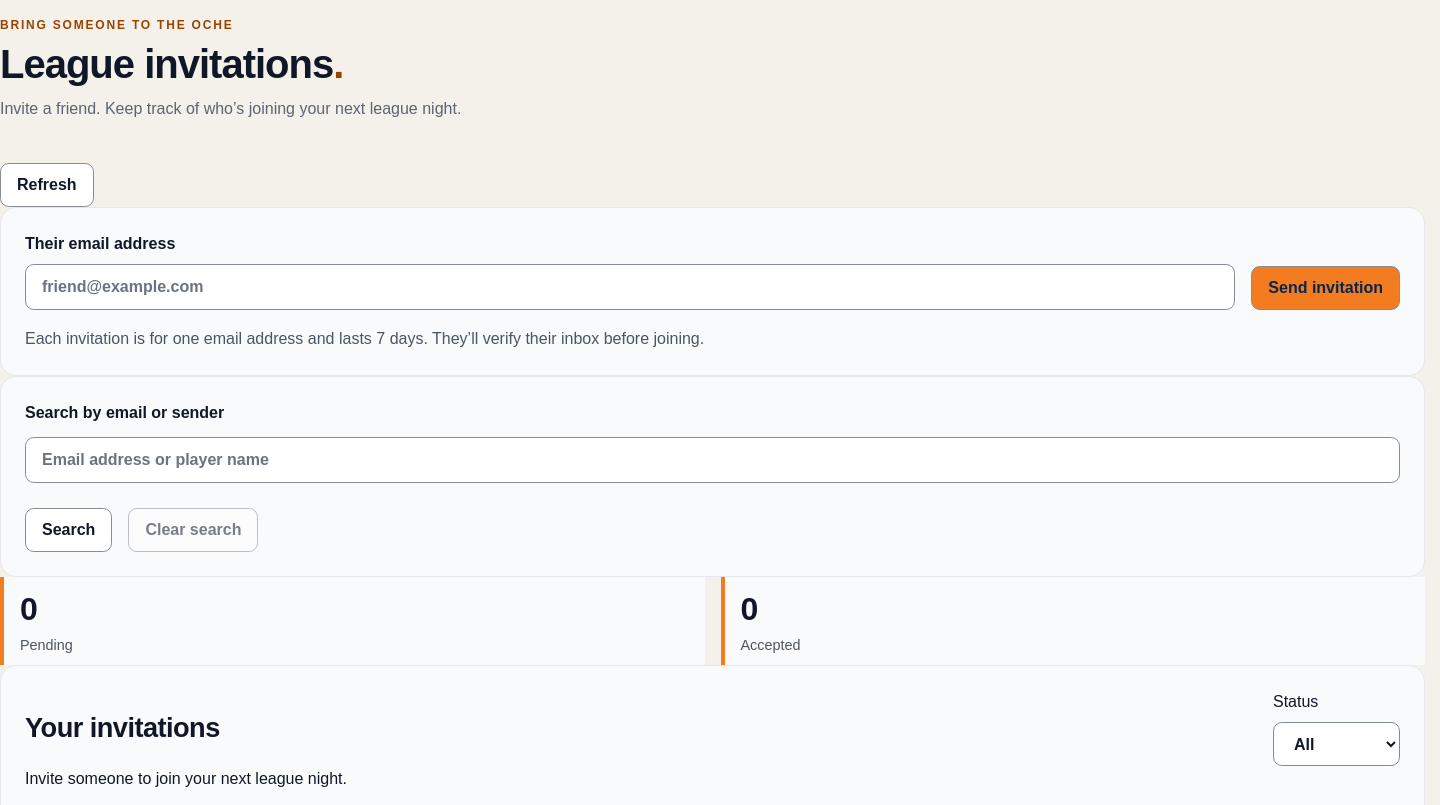
Scenario: keeps search controls available after a failed search
Expected: the text "Invite someone to join your next league night." is shown, x1=25 y1=770 x2=347 y2=787
Type "Alpha" into the search field labelled "Search by email or sender" at (712, 460), box x1=25 y1=437 x2=1400 y2=483
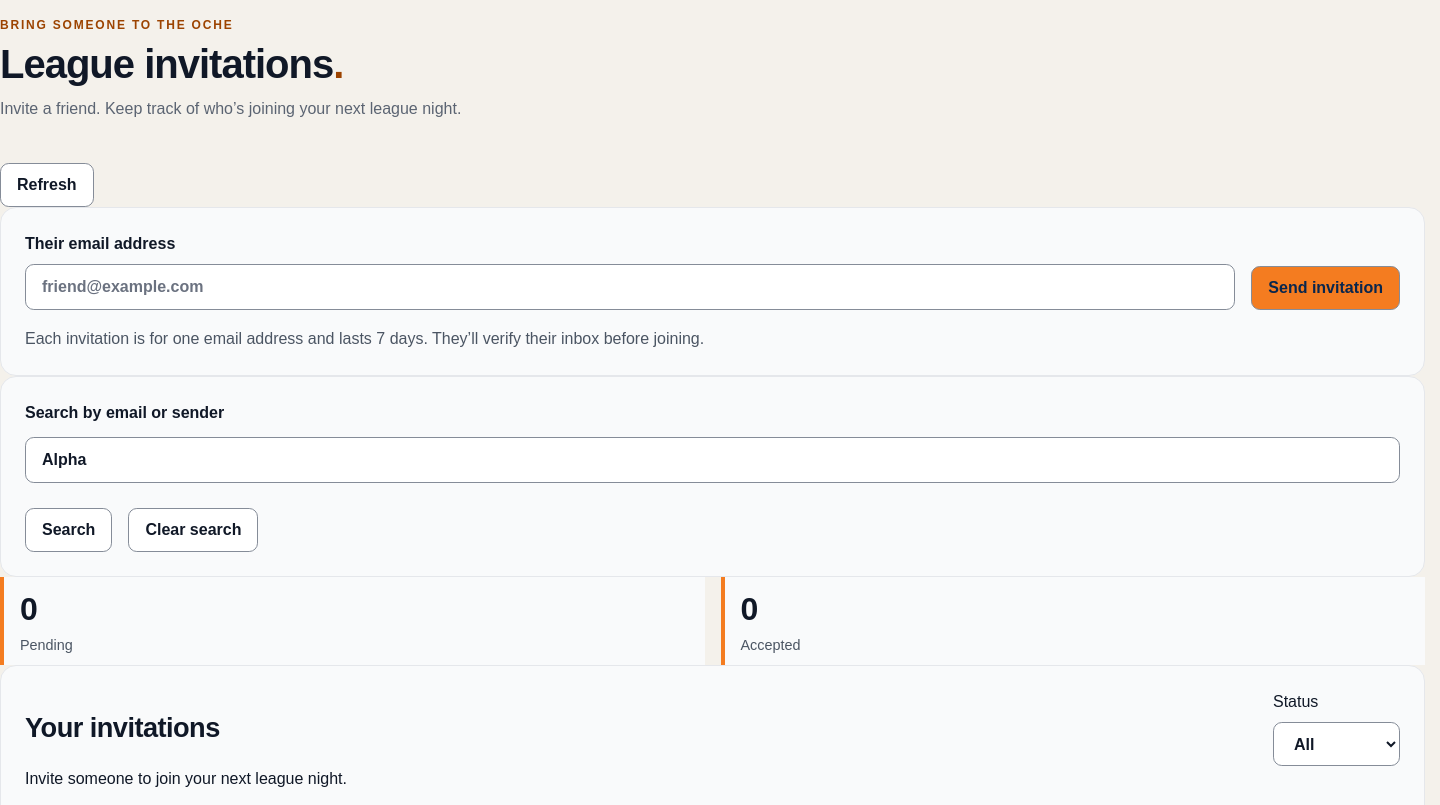
Click the button "Search" at (69, 530), box x1=25 y1=508 x2=112 y2=552
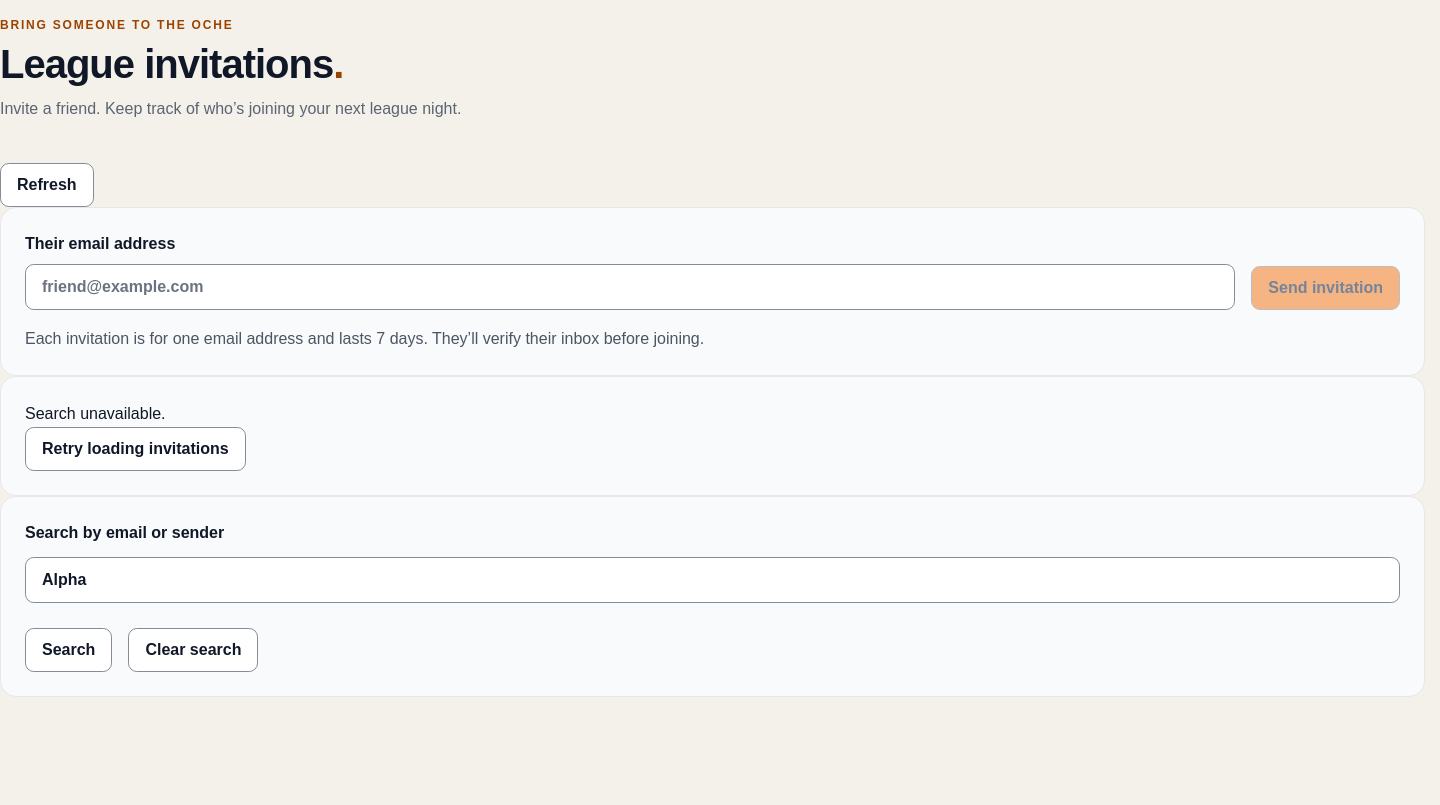
Expected: the text "Search unavailable." is shown, x1=25 y1=405 x2=166 y2=422
Click the button "Clear search" at (193, 650), box x1=128 y1=628 x2=258 y2=672
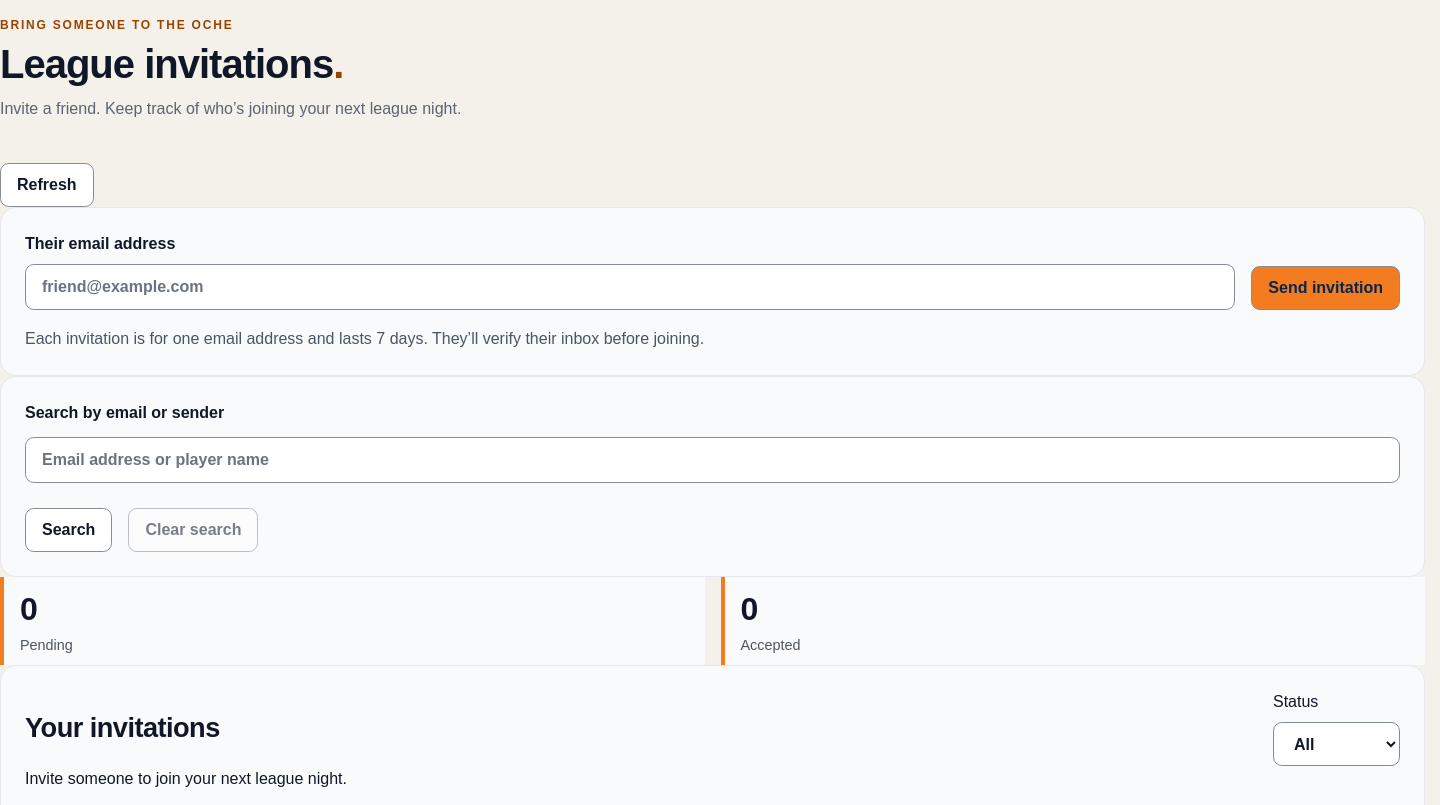
Expected: the text "Invite someone to join your next league night." is shown, x1=25 y1=770 x2=347 y2=787
